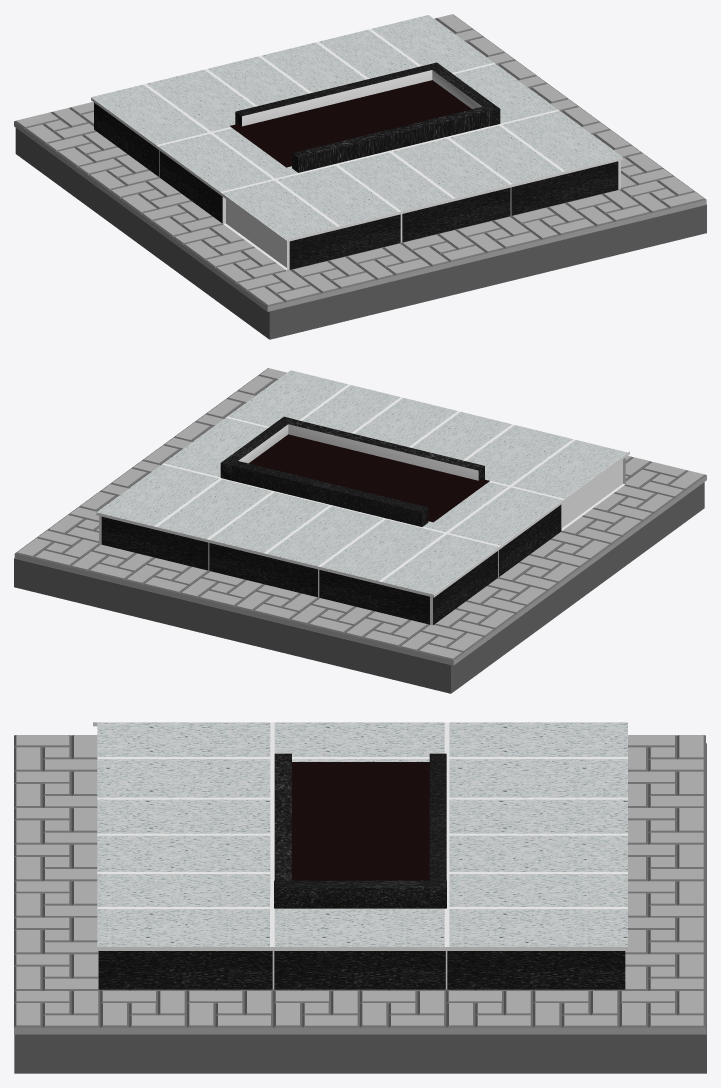
Rendered from 180-180-15 мансур .glb.
3 views of the same model, one above another, from view 1: azimuth 30°, elevation 25°; view 2: azimuth 150°, elevation 25°; view 3: azimuth 270°, elevation 25° (orthographic). The views are drawn at different scales.
Parts seen in each view (by area): view 1: Cube.159, plitka.001, Cube.161, Cube.154, Plane.008, Cube.156, plitka.002, Куб.218, Куб.216, Куб.217; view 2: Cube.159, Cube.161, plitka.002, plitka.001, Cube.153, Plane.008, Cube.156, Куб.216, Куб.218, Куб.217; view 3: Cube.159, plitka.001, Cube.161, plitka.002, Cube.155, Plane.008, Куб.217, Куб.216, Куб.218.
Boxes of the visible parts, x1,y1,x2,y2 form: Cube.159: (91,15,622,243); plitka.001: (77,60,706,311); Cube.161: (15,128,706,339); Cube.154: (289,161,618,269); Plane.008: (230,80,471,167); Cube.156: (94,103,289,270); plitka.002: (14,14,515,172); Куб.218: (292,106,488,172); Куб.216: (235,65,432,126); Куб.217: (426,62,500,126); Cube.159: (96,370,629,597); Cube.161: (14,482,704,693); plitka.002: (14,507,516,665); plitka.001: (78,368,706,618); Cube.153: (101,516,430,624); Plane.008: (249,434,489,522); Cube.156: (430,457,625,625); Куб.216: (230,461,428,526); Куб.218: (288,419,484,480); Куб.217: (220,416,294,480); Cube.159: (93,722,627,950); plitka.001: (14,735,532,1034); Cube.161: (14,743,706,1073); plitka.002: (533,735,705,1034); Cube.155: (98,951,625,989); Plane.008: (292,762,429,880); Куб.217: (274,880,446,908); Куб.216: (429,753,446,881); Куб.218: (274,753,291,880).
Bounding box in the file's own units: 2.4 × 0.4278 × 2.4.
Materials: 7 (3 with a texture image).
